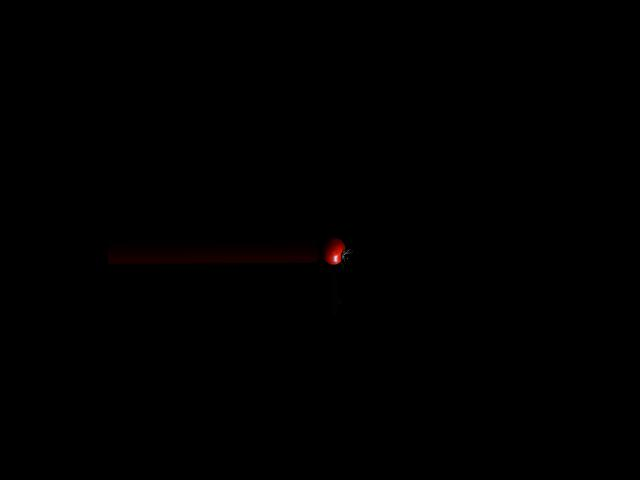tomato: (321, 238, 345, 265)
